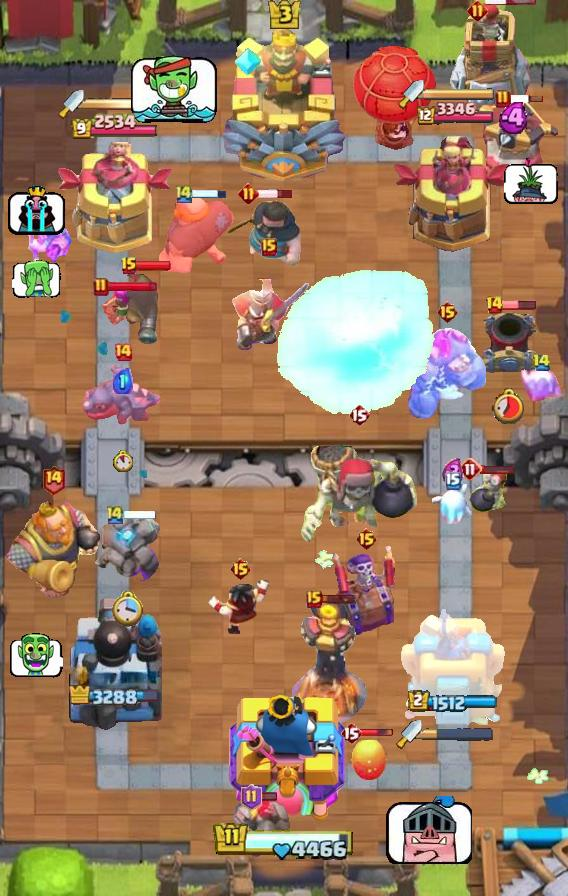balloon: (156, 191, 236, 279)
bar: (391, 132, 515, 256), (401, 601, 505, 731), (55, 142, 173, 256)
bat: (432, 484, 474, 524)
bomb-tower: (122, 268, 160, 346)
cannon: (92, 288, 140, 328)
cannon-cart: (350, 41, 440, 151)
cannoneer-tower: (405, 327, 489, 419)
clock: (213, 821, 355, 862)
electro-dragon: (290, 600, 368, 728)
electro-giant: (298, 430, 420, 546)
electro-spirit: (498, 102, 532, 134), (442, 458, 464, 488), (113, 368, 133, 394)
elixir: (491, 387, 527, 425), (112, 592, 144, 629), (113, 450, 133, 472)
emote: (106, 279, 157, 292), (257, 188, 294, 200), (319, 593, 356, 605), (136, 260, 172, 272), (501, 299, 537, 311), (192, 189, 227, 200), (481, 465, 516, 476), (508, 94, 544, 104), (123, 510, 157, 520), (360, 728, 394, 738), (485, 0, 537, 6), (258, 791, 278, 802)
giant-skeleton: (0, 498, 108, 602)
giant-snowball: (25, 218, 73, 270)
graveyard: (81, 363, 165, 427)
hog: (349, 738, 389, 782)
ice-golem: (467, 467, 509, 517)
king-tower: (220, 21, 348, 181), (223, 689, 345, 826)
king-tower-bar: (424, 87, 496, 101), (84, 97, 156, 111), (422, 727, 494, 741)
lava-pup: (471, 98, 559, 180)
lumberjack: (207, 577, 273, 635)
mega-knight: (272, 269, 438, 419)
mirror: (518, 364, 564, 406)
musketeer: (478, 309, 540, 377)
pad_2: (233, 47, 263, 77)
royal-hog: (222, 198, 302, 270)
selected: (69, 113, 158, 141), (409, 690, 500, 714), (69, 685, 159, 709), (414, 101, 494, 126)
skeleton: (130, 54, 220, 126), (383, 796, 472, 864), (6, 182, 65, 236), (505, 155, 560, 205), (9, 634, 63, 679), (11, 259, 60, 298)
skeleton-king-bar: (333, 541, 399, 635)
text: (41, 464, 66, 495), (458, 457, 482, 481), (241, 784, 263, 810), (436, 300, 459, 324), (354, 527, 377, 551), (228, 557, 251, 581), (348, 403, 370, 427), (340, 721, 362, 745), (238, 183, 259, 205), (174, 183, 194, 205), (467, 0, 488, 20), (105, 504, 125, 525), (113, 342, 133, 362), (484, 295, 503, 315), (120, 256, 138, 276), (532, 353, 551, 371), (495, 89, 511, 109), (93, 277, 109, 297), (261, 238, 277, 256), (445, 472, 461, 490), (306, 590, 322, 608)
tower-bar: (66, 595, 162, 731)
valkyrie-evolution: (93, 513, 163, 581), (232, 793, 296, 861)
wall-breaker-evolution: (227, 260, 311, 352)
zappy: (447, 0, 532, 116)
